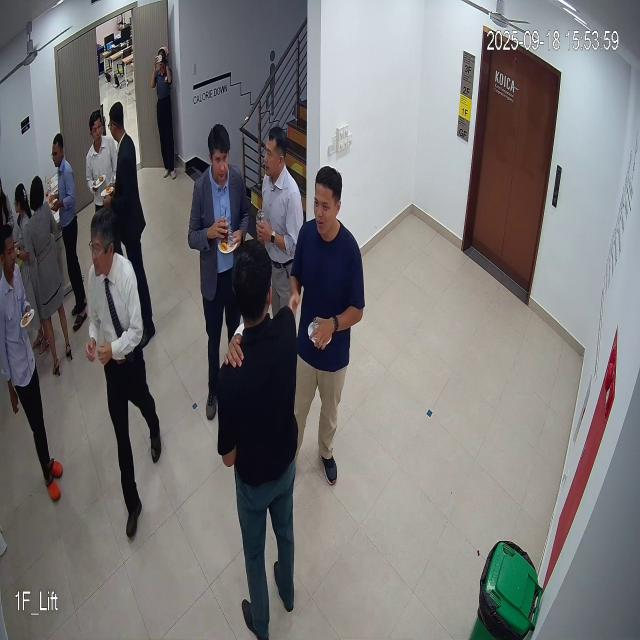face: (312, 164, 346, 241), (89, 202, 116, 286), (208, 122, 231, 187), (262, 128, 289, 179)
